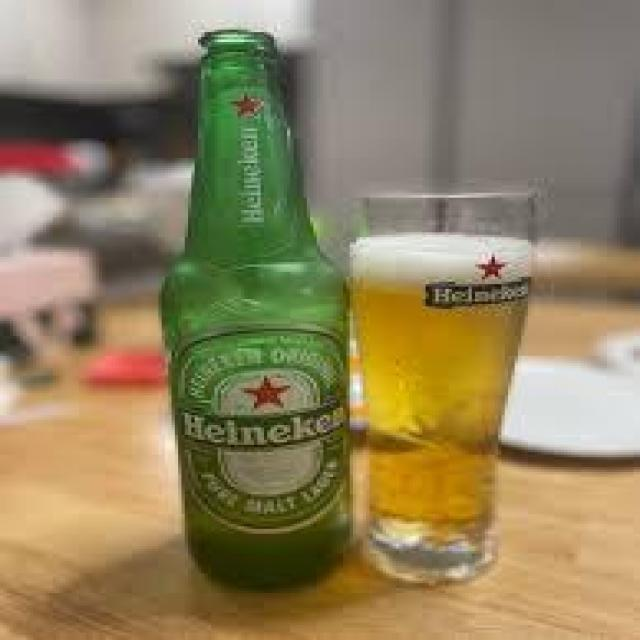beer-bottle: (142, 24, 383, 598)
